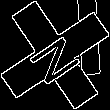N_NE: (23, 24, 87, 86)
